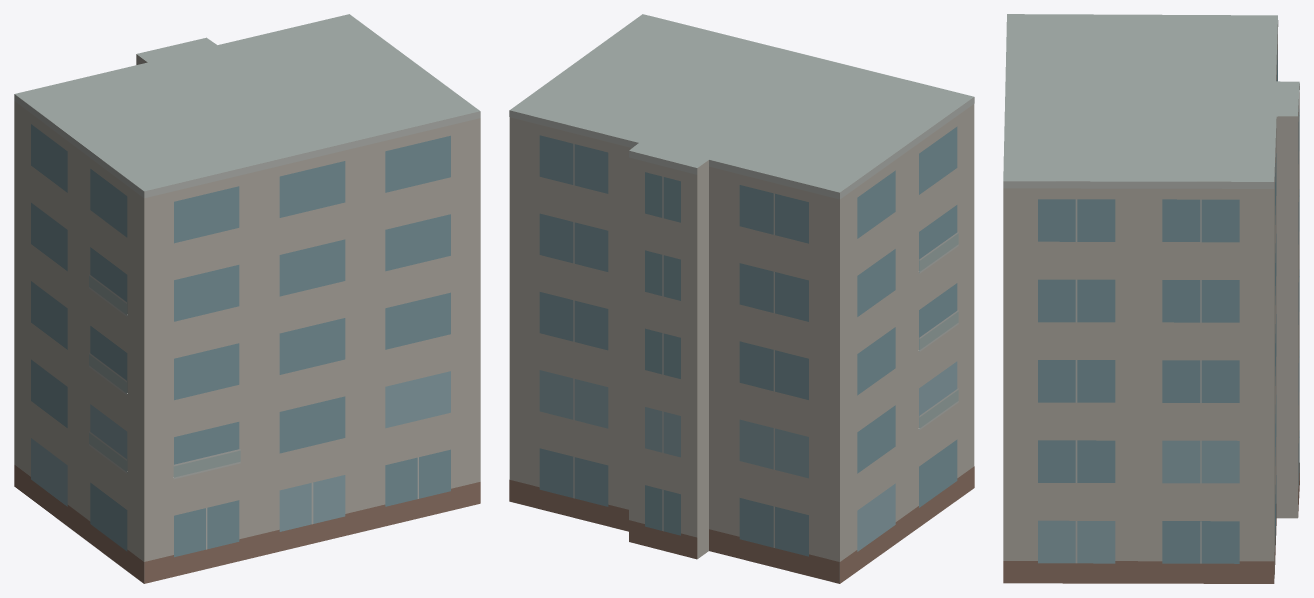
The model's file is survey-upis-32858295.glb.
3 views of the same model, side by side, from view 1: azimuth 30°, elevation 25°; view 2: azimuth 150°, elevation 25°; view 3: azimuth 270°, elevation 25° (orthographic). The views are drawn at different scales.
Visible parts, largest first — view 1: survey-upis-32858295.tmp; view 2: survey-upis-32858295.tmp; view 3: survey-upis-32858295.tmp.
Boxes of the visible parts, x1=… form: survey-upis-32858295.tmp: x1=14, y1=14, x2=480, y2=583; survey-upis-32858295.tmp: x1=509, y1=14, x2=974, y2=583; survey-upis-32858295.tmp: x1=1003, y1=14, x2=1299, y2=583.
Size of the model in its own units: 12.48 by 13.9 by 9.3.
